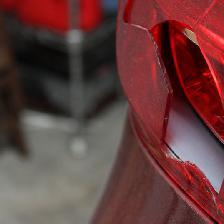tail_lamp: (65, 9, 224, 196)
